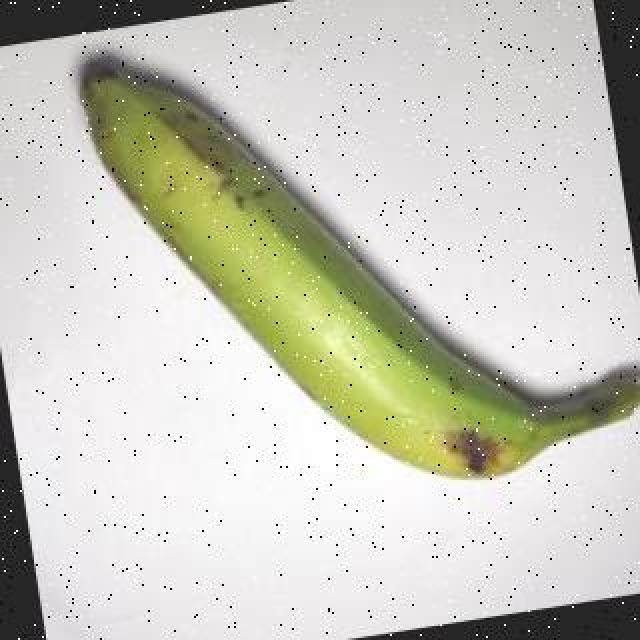Unripe: (79, 58, 640, 481)
